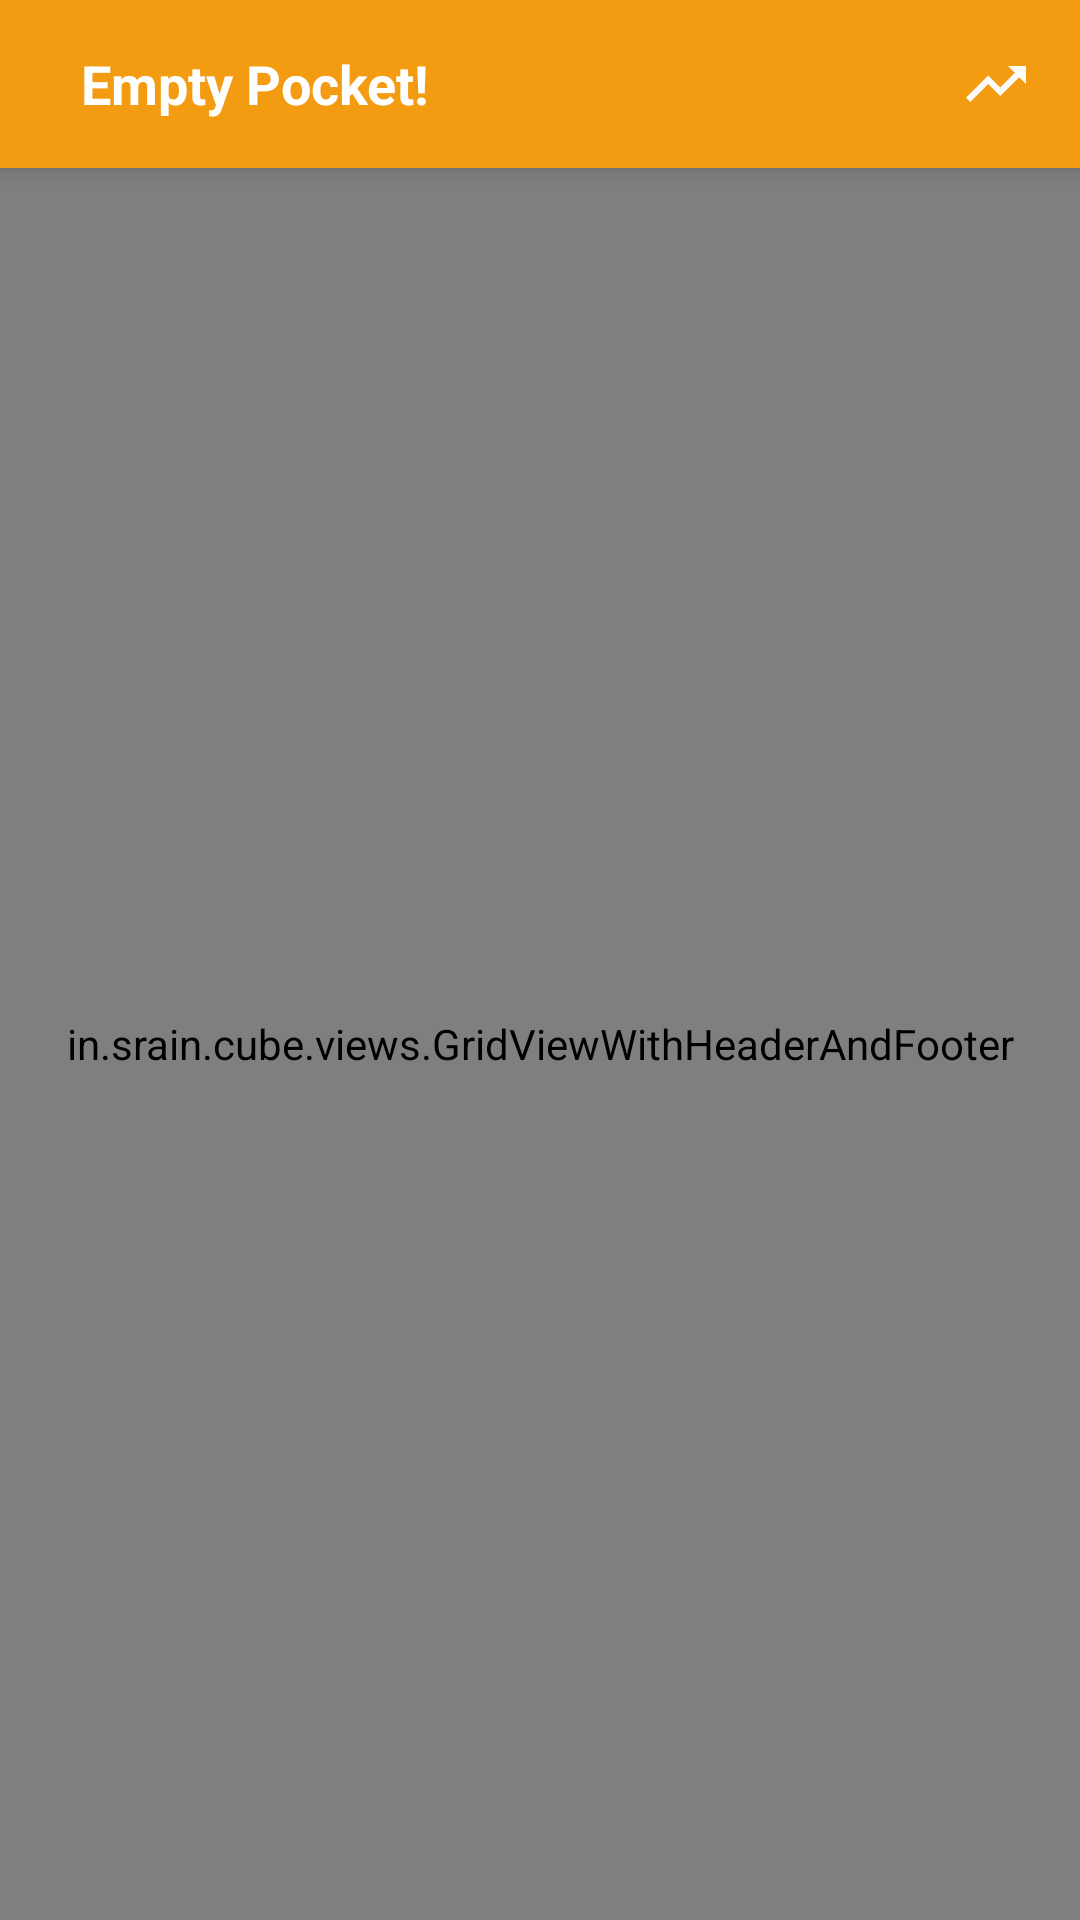

Screen size 1080w x 1920h. Icon name, then its box in pixels as (x1, y1, x2, y2):
trending: (966, 66, 1026, 102)
